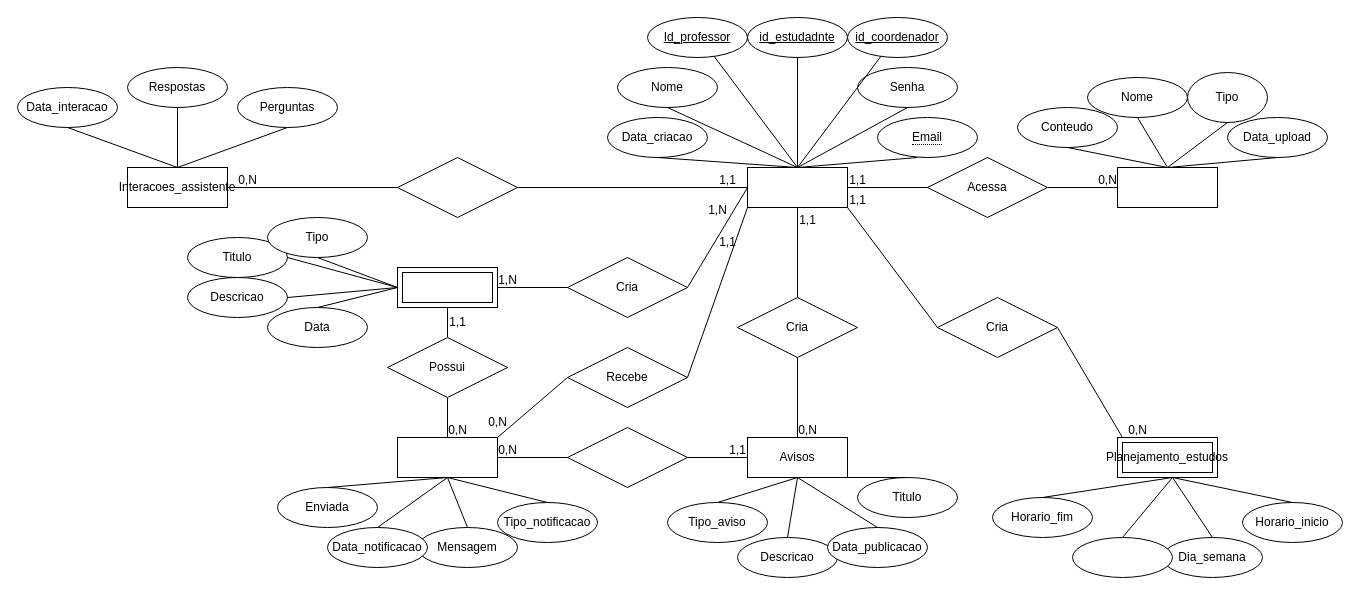
The diagram is 1360 pixels wide and 603 high, and some of its shapes have lost their labels. The centre of each missing label's shape, as x and y in pixels:
Atividade: the point at 1122,557
Documentos: the point at 1167,187
gera: the point at 627,457
notificacoes: the point at 447,457
Realiza: the point at 457,187
Tarefas_eventos: the point at 447,287
Usuarios: the point at 797,187
